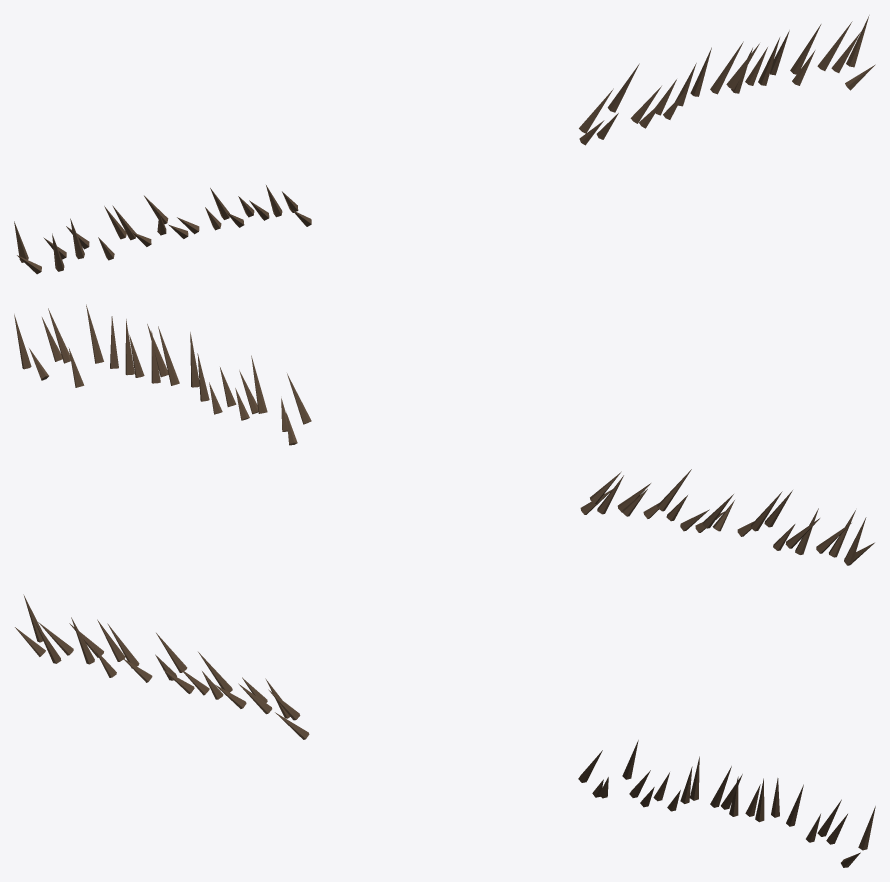
The model's file is natural.glb.
3 views of the same model, one above another, from view 1: azimuth 30°, elevation 25°; view 2: azimuth 150°, elevation 25°; view 3: azimuth 330°, elevation 25° (orthographic).
Size of the model in its own units: 0.1783 by 0.0168 by 0.00778.
